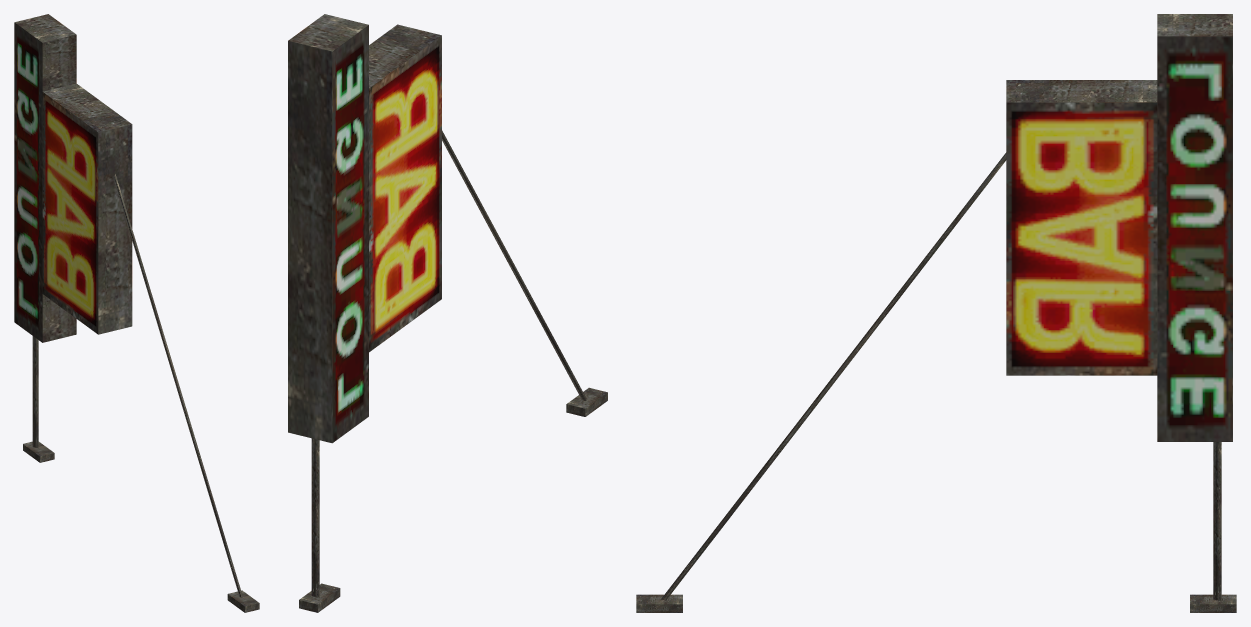
Rendered from bar_lounge_horiz.fbx.
3 views of the same model, side by side, from view 1: azimuth 30°, elevation 25°; view 2: azimuth 150°, elevation 25°; view 3: azimuth 270°, elevation 25° (orthographic). The views are drawn at different scales.
Parts seen in each view (by area): view 1: mesh_0; view 2: mesh_0; view 3: mesh_0.
Part boxes in pixels (x1=…): mesh_0: x1=14, y1=14, x2=259, y2=612; mesh_0: x1=288, y1=14, x2=607, y2=612; mesh_0: x1=636, y1=14, x2=1236, y2=612.
Bounding box in the file's own units: 37.92 × 462 × 429.
1 material, 1 textured.
